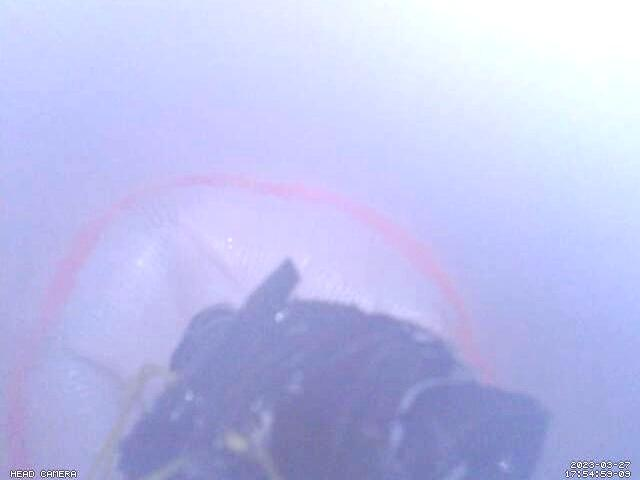head: (5, 170, 495, 480)
